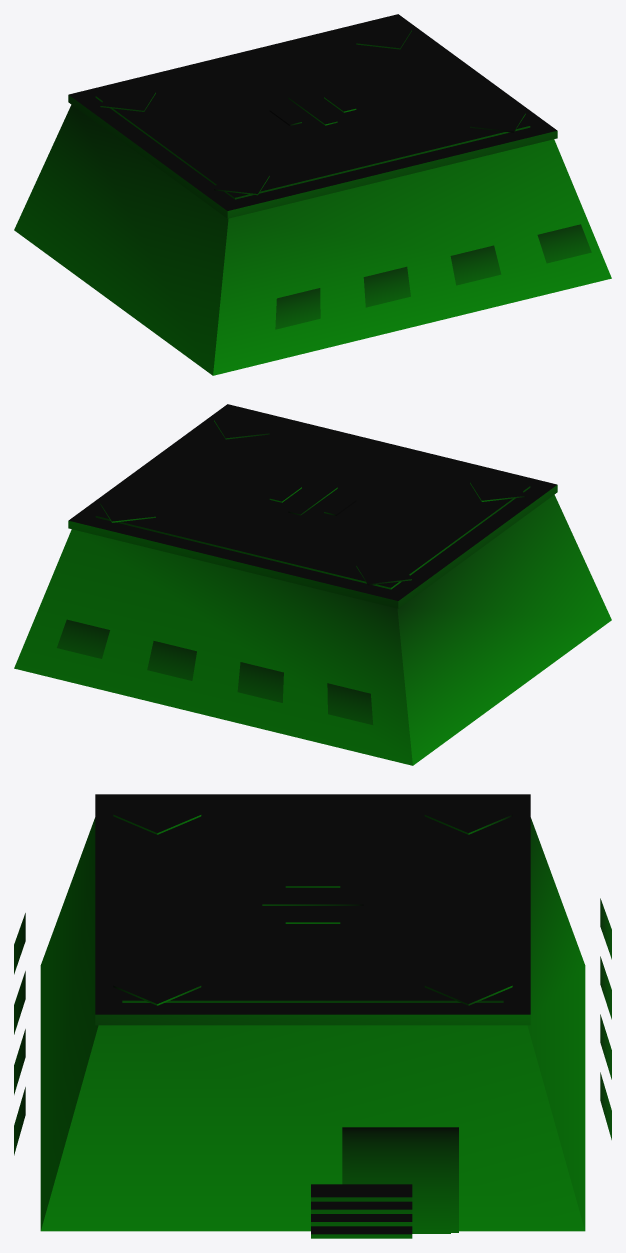
File: ammodump.glb
3 renders of one model, top to bottom at view 1: azimuth 30°, elevation 25°; view 2: azimuth 150°, elevation 25°; view 3: azimuth 270°, elevation 25°, orthographic. The views are drawn at different scales.
Visible parts, largest first — view 1: lod0; view 2: lod0; view 3: lod0.
Part boxes in pixels (bbox=[...]): lod0: bbox=[14, 14, 611, 375]; lod0: bbox=[14, 404, 611, 765]; lod0: bbox=[14, 794, 611, 1238].
Size of what is drawn, in the model's own units: 17.15 by 5.62 by 15.38.
